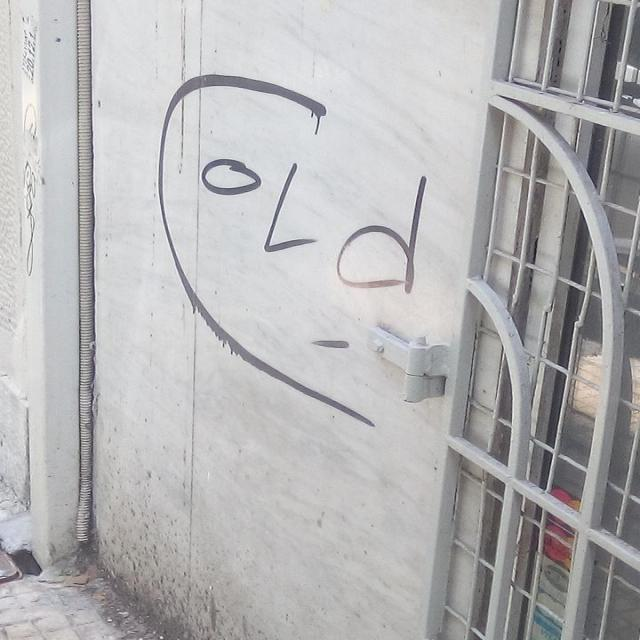nonspitting: (157, 72, 427, 427)
